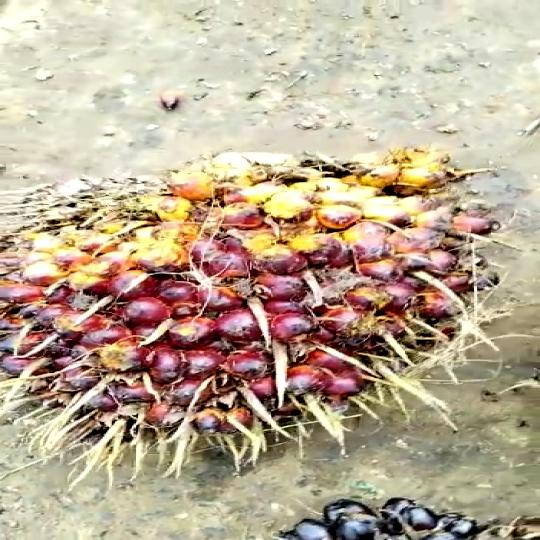masak: (0, 148, 540, 497)
